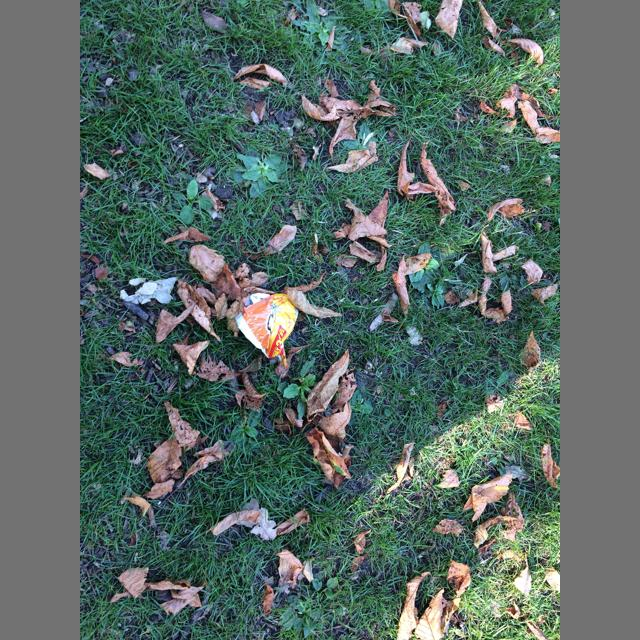litter: (235, 293, 298, 367)
